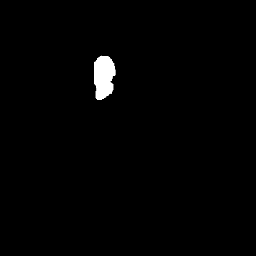mass: (93, 60, 116, 101)
